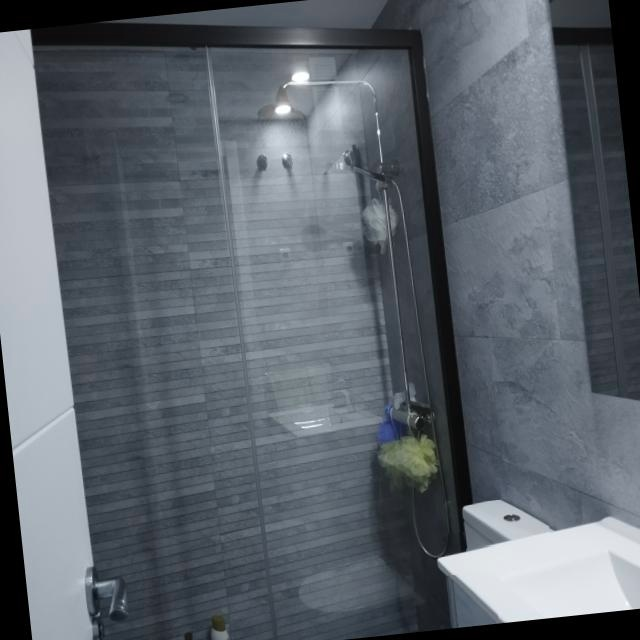cabinet: (447, 576, 498, 627)
shelf: (31, 23, 472, 640)
table: (462, 500, 549, 548)
wardrobe: (437, 517, 640, 623)
